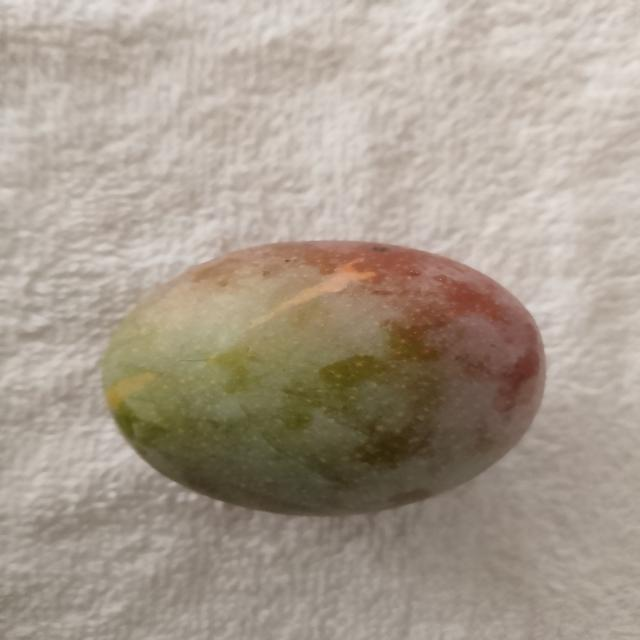mango: (96, 237, 551, 519)
